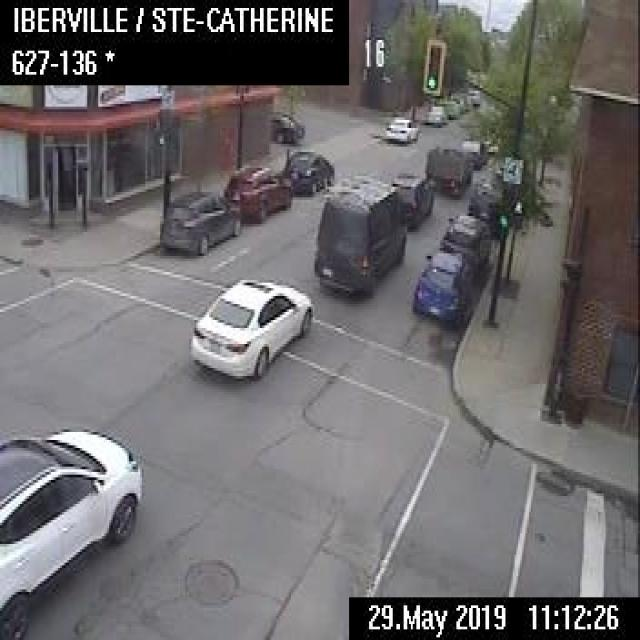vehicle: (0, 424, 144, 637), (187, 274, 315, 378), (314, 172, 406, 292), (161, 188, 240, 252), (410, 248, 473, 321), (223, 162, 291, 220), (438, 211, 492, 269), (389, 171, 434, 226), (425, 144, 472, 194), (281, 148, 333, 193), (465, 172, 500, 234), (268, 109, 304, 140), (459, 136, 487, 168), (384, 116, 418, 139), (421, 102, 447, 124), (450, 90, 470, 111), (441, 97, 459, 116), (465, 87, 480, 104)
